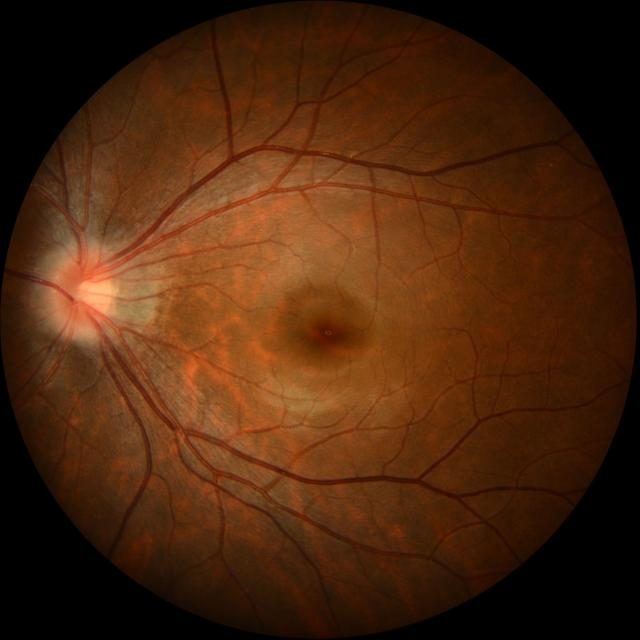OC: (75, 280, 101, 307)
OD: (52, 256, 111, 328)
